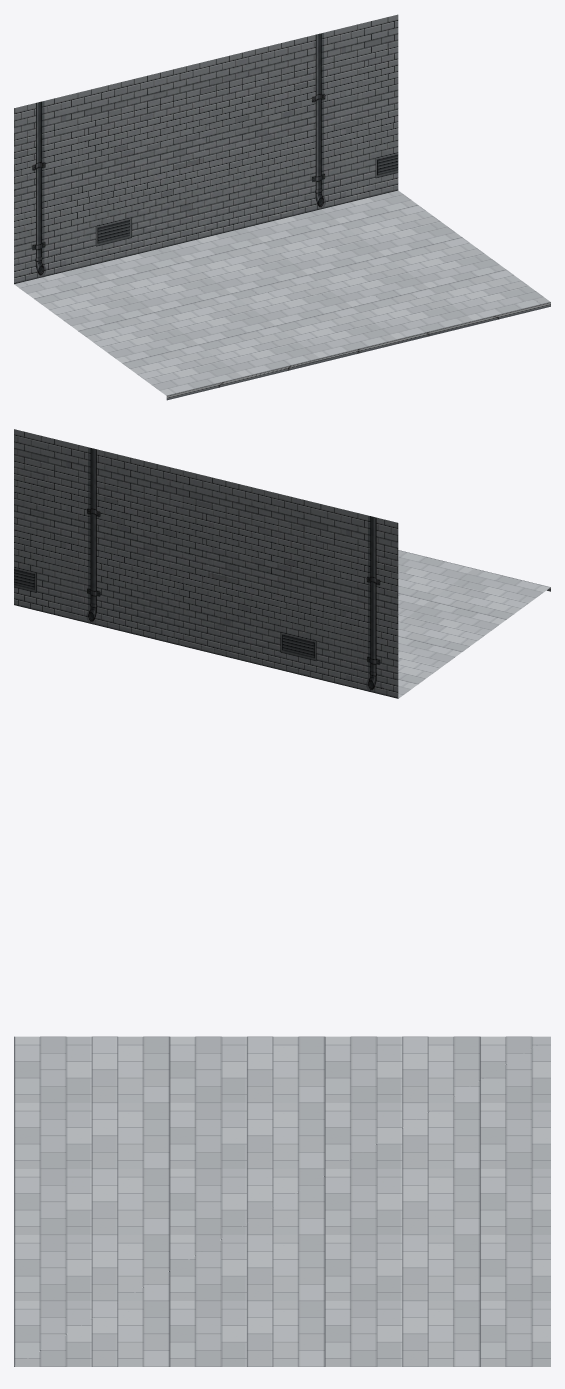
File: street.glb
The picture shows the model from 3 angles, top to bottom: view 1: azimuth 30°, elevation 25°; view 2: azimuth 150°, elevation 25°; view 3: azimuth 270°, elevation 25°; orthographic projection. The views are drawn at different scales.
Parts seen in each view (by area): view 1: StreetL; view 2: StreetL; view 3: StreetL.
Boxes of the visible parts, <box> form: StreetL: <box>14,14,550,400</box>; StreetL: <box>14,429,550,698</box>; StreetL: <box>14,1036,550,1366</box>.
Bounding box in the file's own units: 16 × 7.18 × 11.
Materials: 2 (2 with a texture image).
